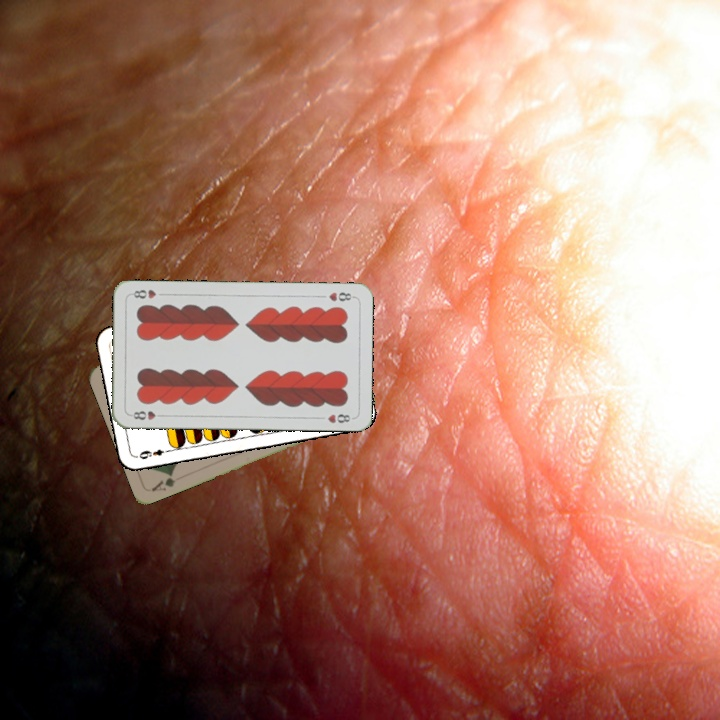E9: (134, 445, 174, 462)
GA: (147, 469, 178, 494)
H8: (126, 407, 167, 422), (325, 288, 357, 304)
